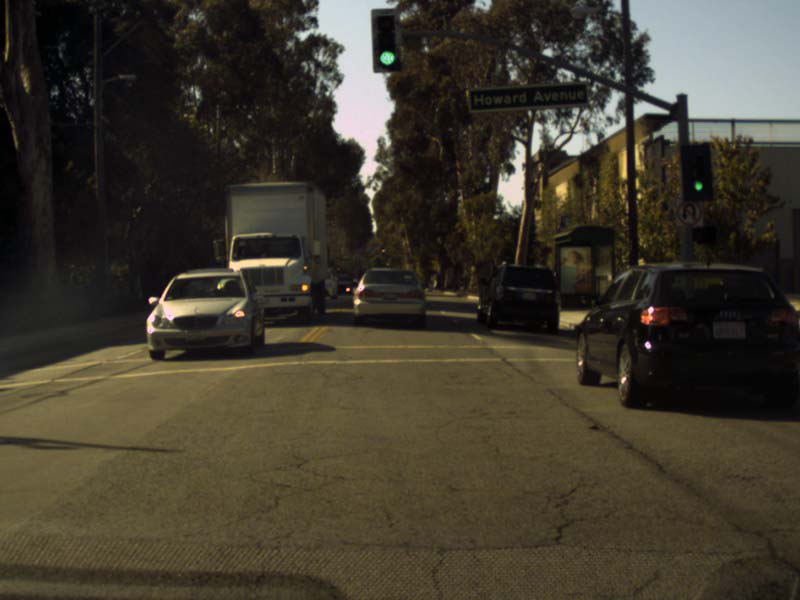Green: (683, 148, 710, 200), (377, 15, 394, 66)
